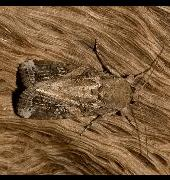army worm adult: (3, 33, 159, 156)
